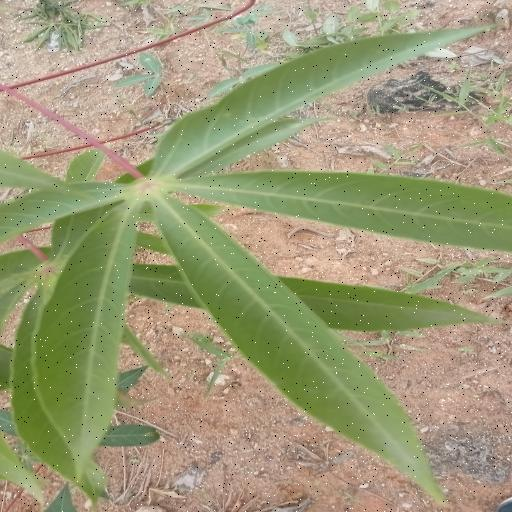Cassava_Healthy: (16, 20, 512, 493)
